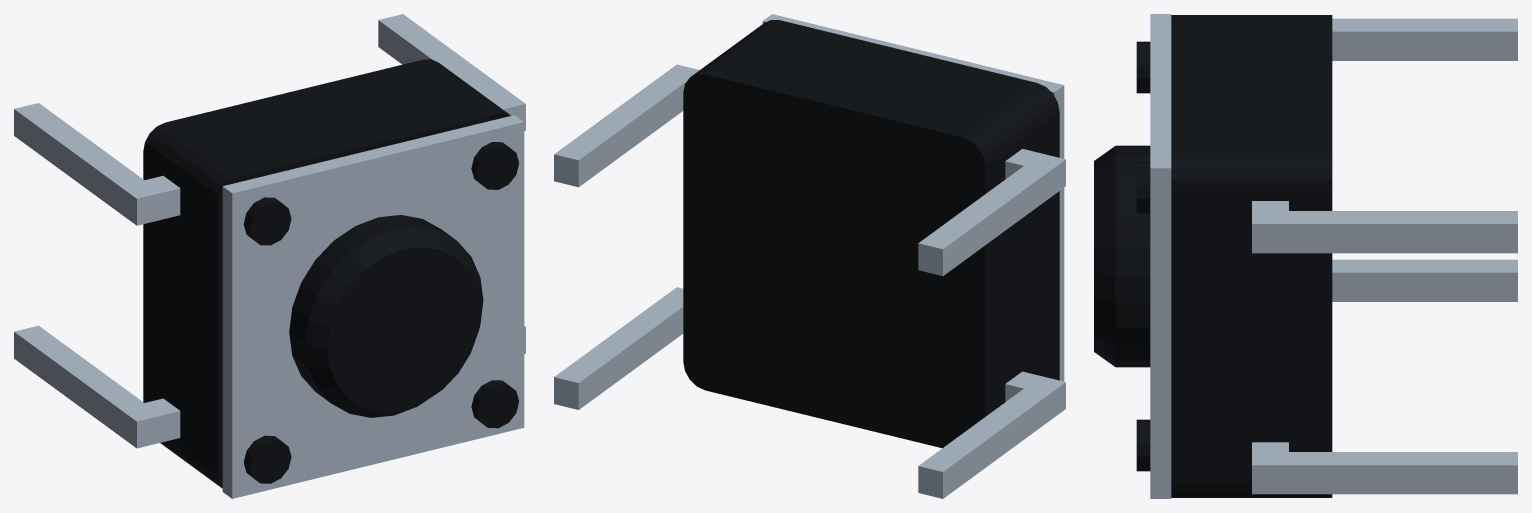
File: momentary_button.obj
3 views of the same model, side by side, from view 1: azimuth 30°, elevation 25°; view 2: azimuth 150°, elevation 25°; view 3: azimuth 270°, elevation 25° (orthographic). The views are drawn at different scales.
Parts seen in each view (by area): view 1: momentary_button; view 2: momentary_button; view 3: momentary_button.
Boxes of the visible parts, x1=… form: momentary_button: x1=14, y1=14, x2=525, y2=498; momentary_button: x1=554, y1=14, x2=1065, y2=498; momentary_button: x1=1094, y1=14, x2=1517, y2=498.
Bounding box in the file's own units: 2 × 1.55 × 1.74.
